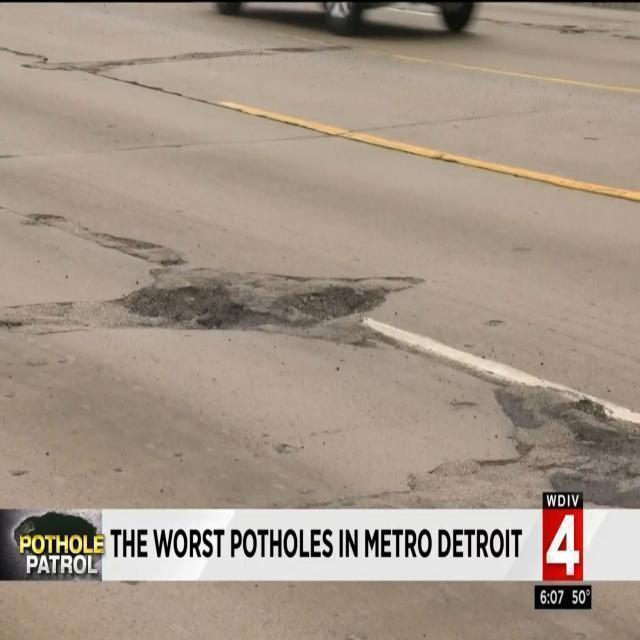Pothole: (107, 263, 427, 348)
